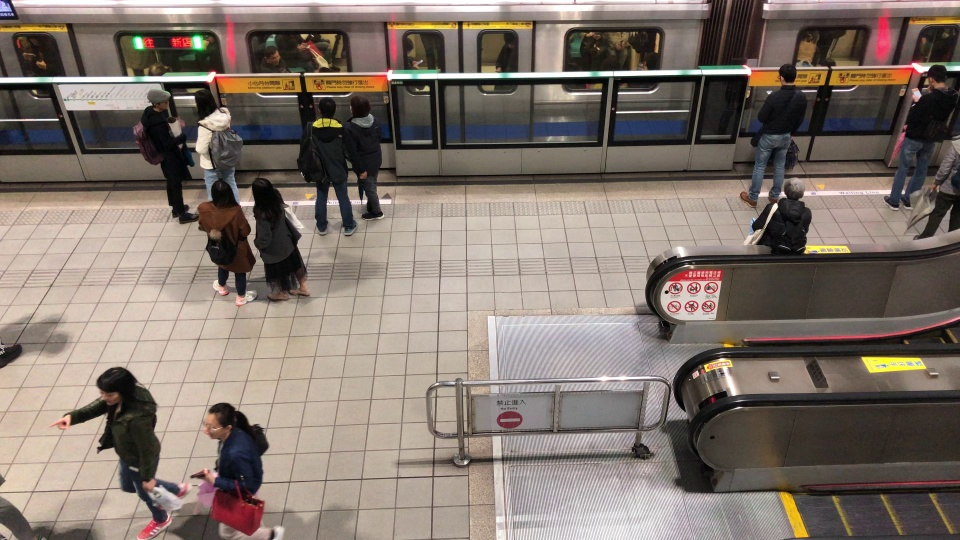person_head: (93, 365, 142, 411), (199, 404, 250, 443), (253, 180, 287, 219), (207, 176, 238, 212), (142, 88, 174, 118), (781, 179, 811, 208), (190, 90, 219, 119), (919, 63, 948, 92), (773, 62, 798, 89), (353, 98, 373, 121), (313, 101, 336, 119)
person_vbox: (46, 366, 193, 540), (185, 407, 291, 540), (730, 62, 810, 212), (878, 66, 959, 214), (118, 87, 201, 227), (286, 103, 361, 239), (186, 179, 263, 310), (242, 181, 311, 303), (180, 91, 248, 211), (892, 123, 960, 242), (345, 97, 393, 222), (740, 179, 813, 261)
